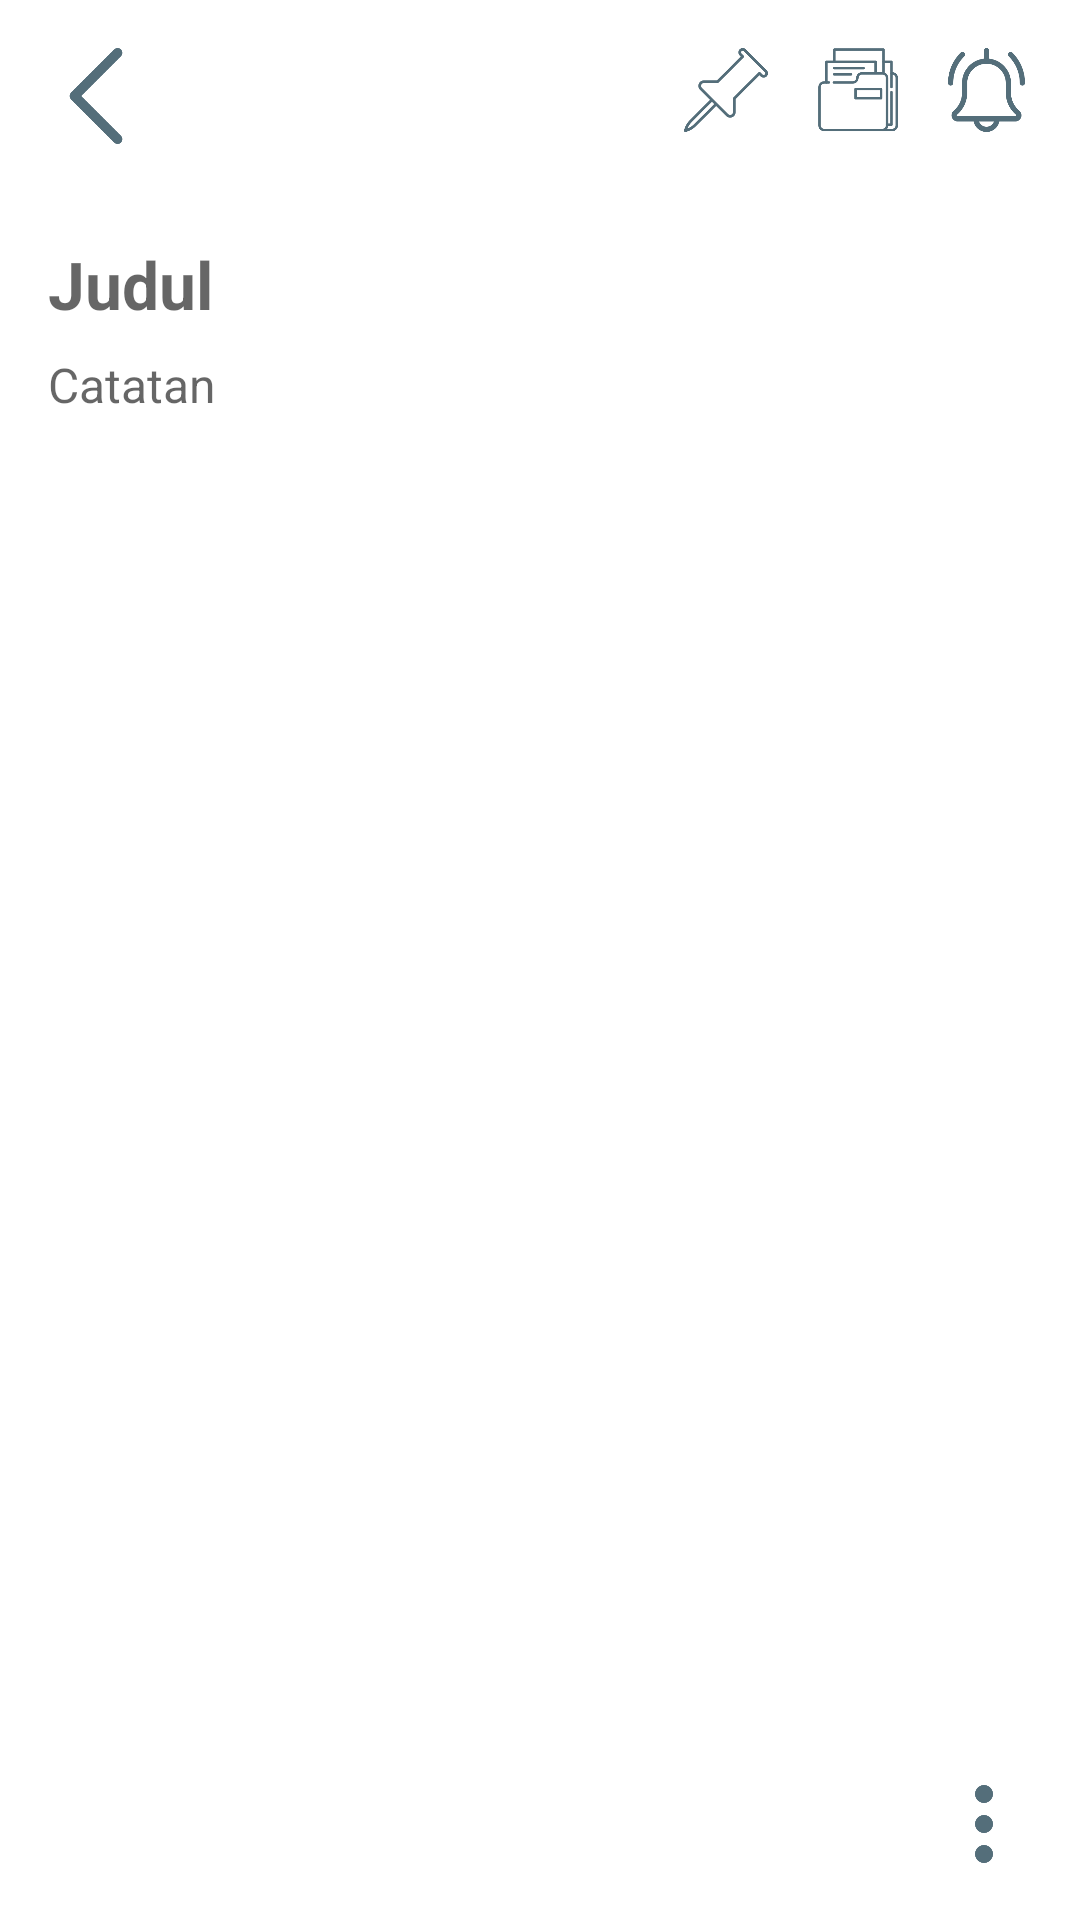

Screen size 1080x1920. Icon name, then its box in pixels as (left=x1, top=y1, right=x2, bottom=y2):
arsip: (left=818, top=48, right=898, bottom=131)
back: (left=69, top=48, right=123, bottom=144)
notif: (left=948, top=48, right=1025, bottom=132)
pin: (left=684, top=48, right=768, bottom=132)
titik: (left=975, top=1785, right=993, bottom=1863)
